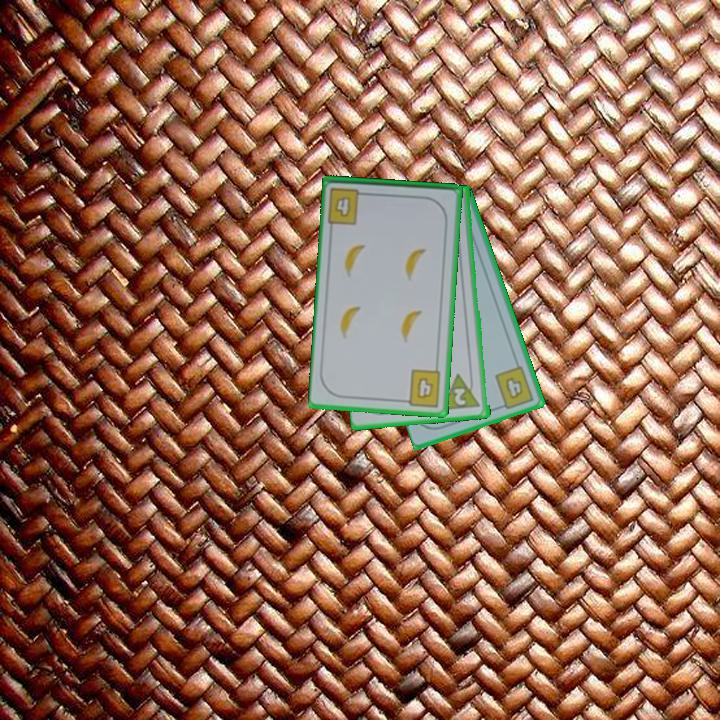2p: (451, 385, 469, 408)
4b: (492, 362, 537, 412), (399, 366, 444, 410), (325, 184, 371, 227)
